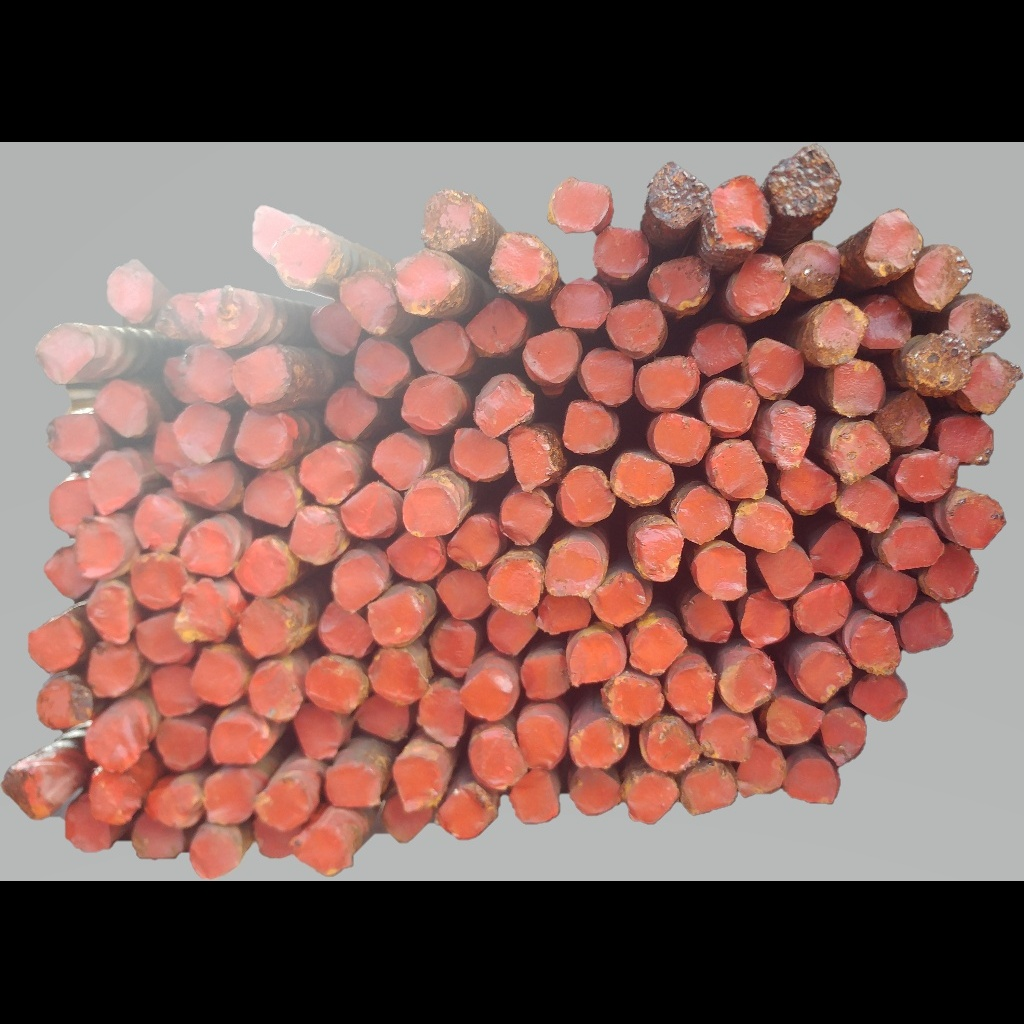dipstick: (771, 148, 877, 217), (709, 176, 770, 251), (392, 249, 458, 318), (178, 578, 244, 646), (420, 190, 490, 253), (1, 760, 67, 824), (962, 351, 1024, 417), (86, 710, 147, 776), (272, 227, 339, 287), (835, 473, 899, 535), (913, 246, 972, 313), (809, 296, 866, 365), (489, 233, 553, 294), (648, 163, 709, 227), (232, 408, 297, 468), (37, 320, 95, 386), (865, 209, 922, 276), (733, 252, 790, 318), (831, 421, 892, 482), (237, 538, 298, 598), (463, 298, 525, 357), (469, 729, 526, 793), (401, 374, 463, 432), (174, 402, 232, 464), (948, 299, 1012, 355), (235, 346, 293, 407), (300, 446, 358, 506), (908, 332, 966, 392), (676, 485, 733, 546), (197, 288, 259, 344), (608, 299, 667, 357), (410, 319, 470, 376), (242, 469, 299, 529), (559, 466, 616, 526), (474, 377, 535, 433), (749, 336, 804, 398), (649, 256, 712, 310), (948, 493, 1007, 550), (306, 658, 367, 713), (638, 358, 700, 412), (291, 506, 347, 565), (239, 598, 295, 657), (778, 460, 837, 516), (873, 389, 929, 448), (544, 542, 604, 597), (712, 441, 767, 501), (589, 570, 650, 624), (172, 465, 243, 511), (894, 450, 958, 501), (190, 822, 247, 879), (439, 786, 498, 841), (787, 237, 840, 298), (926, 540, 976, 604), (510, 425, 557, 493), (642, 717, 698, 774), (792, 581, 850, 636), (719, 653, 773, 712), (357, 337, 410, 397), (849, 671, 910, 723), (549, 181, 611, 232), (87, 769, 144, 824), (569, 632, 626, 687), (318, 602, 372, 660), (701, 380, 759, 434), (630, 621, 688, 675), (249, 663, 302, 722), (769, 402, 817, 467), (293, 829, 358, 877), (612, 455, 675, 504), (460, 666, 516, 721), (797, 648, 853, 703), (193, 650, 247, 707), (369, 650, 426, 704), (810, 521, 863, 579), (107, 259, 155, 323), (77, 516, 127, 577), (295, 701, 345, 762), (879, 524, 945, 570), (180, 346, 236, 400), (94, 380, 148, 436), (582, 348, 636, 404), (367, 595, 424, 648), (525, 329, 582, 382), (593, 227, 651, 279), (28, 616, 80, 674), (332, 554, 384, 612), (501, 489, 552, 548), (732, 503, 794, 551), (758, 543, 813, 597), (563, 401, 616, 457), (693, 322, 749, 375), (850, 618, 903, 674), (938, 414, 994, 467), (134, 494, 186, 551), (138, 613, 195, 665), (653, 413, 710, 465), (34, 679, 93, 729), (743, 588, 792, 648), (420, 685, 465, 750), (324, 387, 378, 441), (510, 769, 562, 825), (209, 717, 267, 767), (699, 714, 757, 764), (551, 280, 610, 329), (766, 696, 825, 745), (182, 523, 235, 577), (694, 546, 748, 599), (453, 428, 508, 480), (131, 558, 186, 610), (450, 515, 502, 570), (490, 559, 542, 614), (858, 297, 913, 349), (573, 718, 630, 768), (899, 599, 952, 652), (427, 620, 477, 676), (737, 741, 785, 799), (860, 568, 919, 615), (821, 706, 867, 766), (833, 363, 885, 416), (787, 755, 840, 807), (50, 478, 95, 539), (46, 414, 102, 463), (90, 456, 139, 512), (517, 713, 566, 769), (255, 779, 311, 828), (401, 486, 458, 534), (389, 534, 446, 582), (156, 719, 208, 771), (628, 774, 680, 826), (373, 433, 423, 487), (437, 570, 491, 620), (149, 666, 203, 716), (634, 524, 683, 579), (608, 675, 663, 724), (65, 796, 112, 853), (345, 486, 397, 537), (682, 591, 733, 643), (310, 302, 360, 355), (668, 667, 716, 722), (395, 754, 443, 809), (148, 781, 204, 828), (355, 696, 411, 743), (88, 647, 139, 697), (133, 813, 186, 861), (87, 586, 132, 642), (567, 768, 623, 813), (522, 649, 570, 701), (685, 767, 738, 814), (327, 764, 381, 809), (205, 774, 253, 824)
